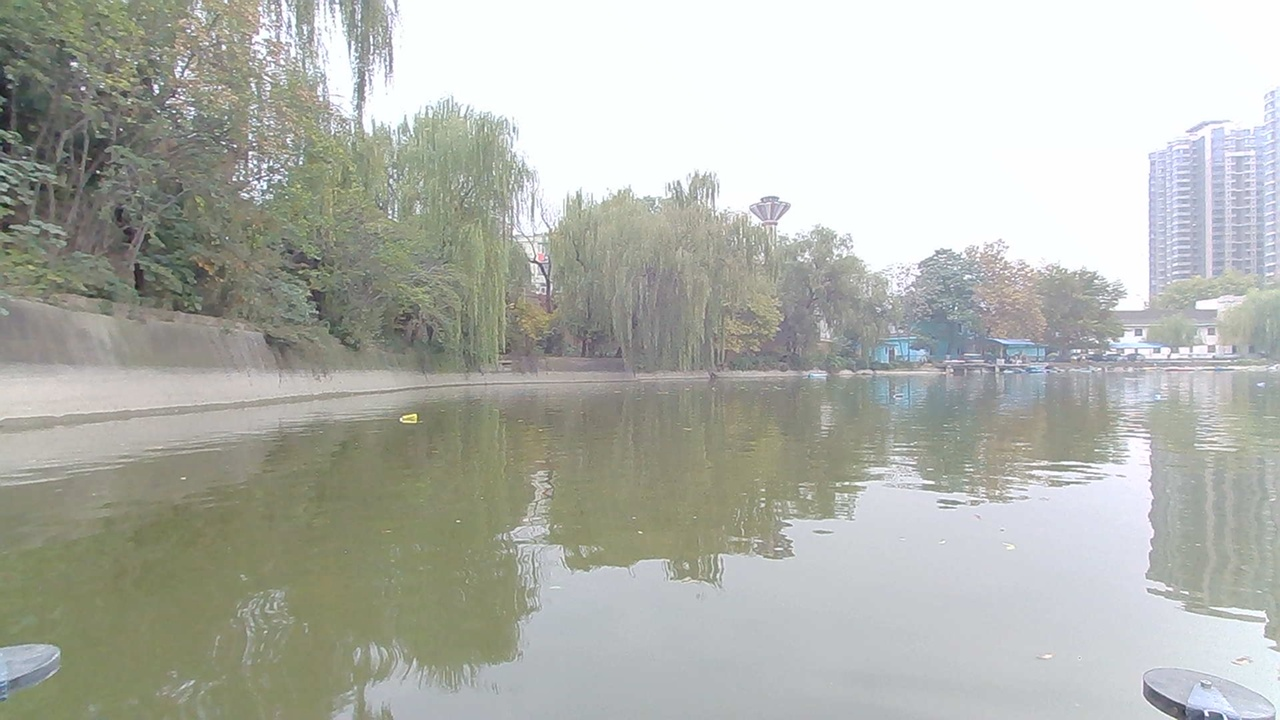bottle: (395, 409, 429, 432), (893, 389, 922, 404)
